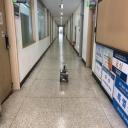cart: (60, 70, 68, 82)
